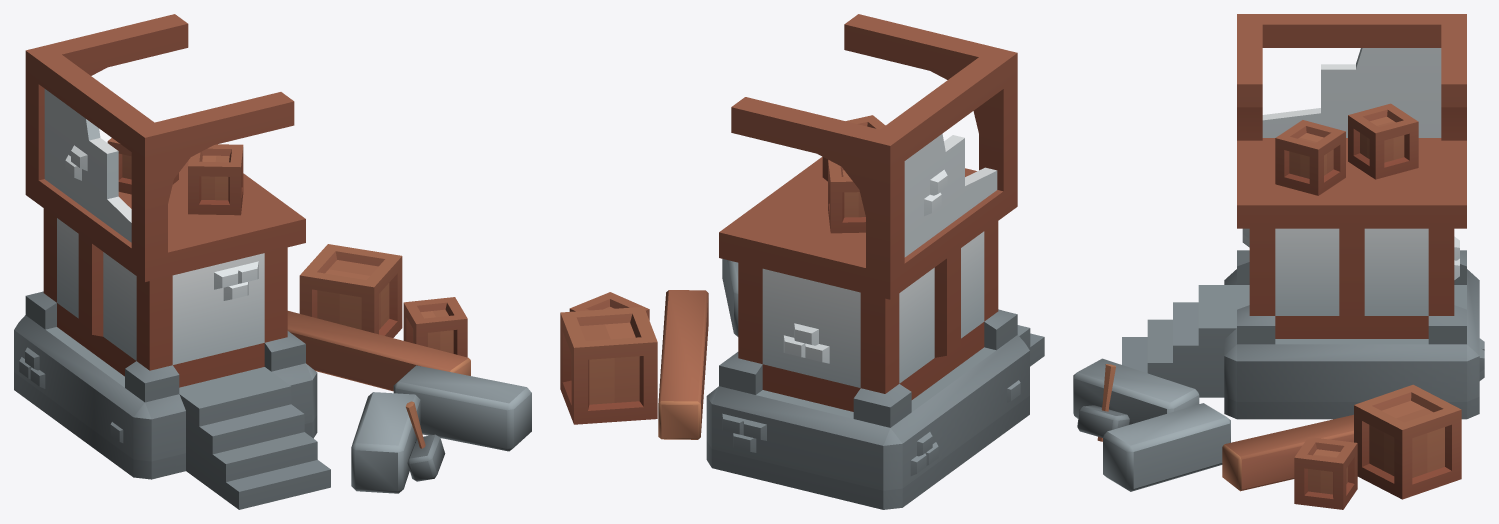
The model's file is building_stage_c.glb.
The picture shows the model from 3 angles, left to right: view 1: azimuth 30°, elevation 25°; view 2: azimuth 150°, elevation 25°; view 3: azimuth 270°, elevation 25°; orthographic projection. The views are drawn at different scales.
Parts seen in each view (by area): view 1: building_stage_C; view 2: building_stage_C; view 3: building_stage_C.
Boxes of the visible parts, left/top/right/bottom form: building_stage_C: left=14, top=14, right=531, bottom=509; building_stage_C: left=560, top=14, right=1044, bottom=509; building_stage_C: left=1073, top=14, right=1484, bottom=509.
Bounding box in the file's own units: 1.16 × 0.986 × 1.13.
1 material, 1 textured.
